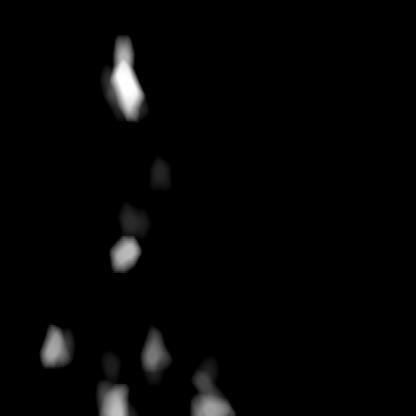fingers: (101, 30, 148, 120)
palm: (43, 320, 231, 414)
